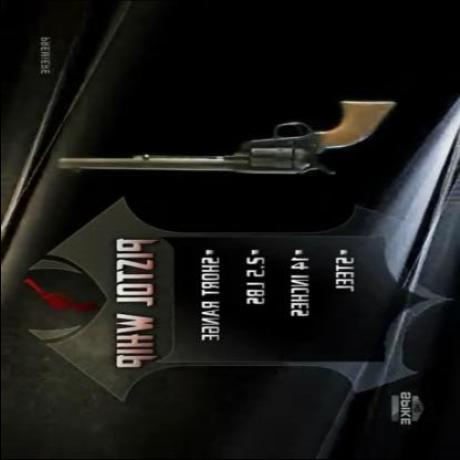weapon: (56, 93, 396, 184)
